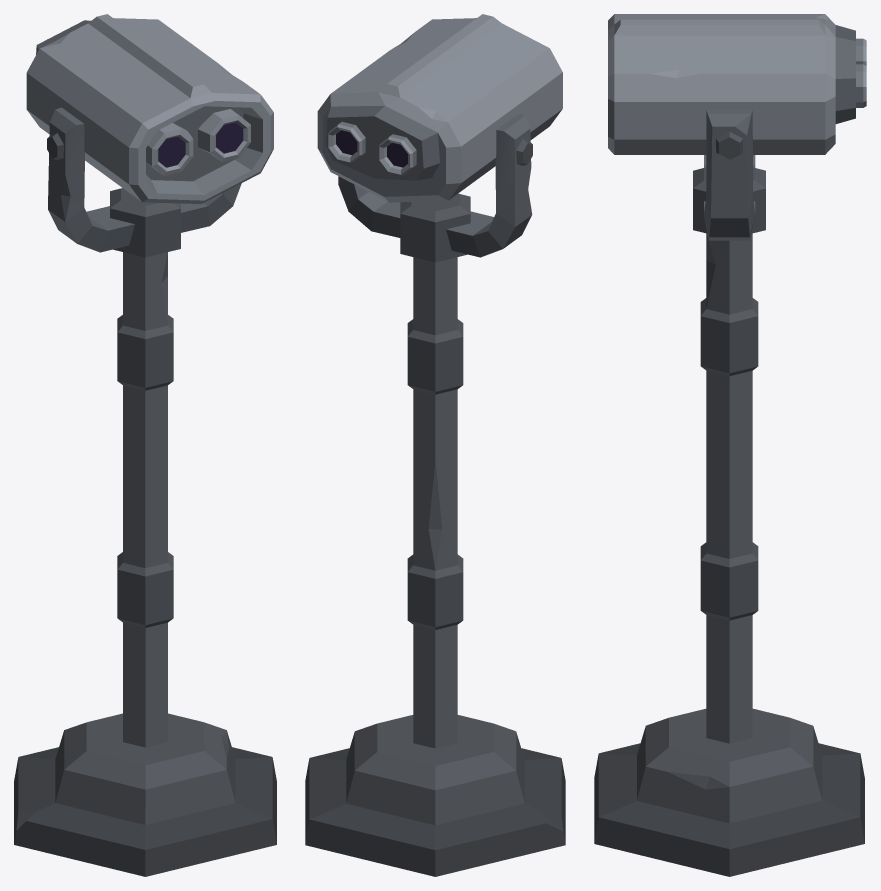
File: SM_Prop_Binoculars_01.glb
The picture shows the model from 3 angles, left to right: view 1: azimuth 30°, elevation 25°; view 2: azimuth 150°, elevation 25°; view 3: azimuth 270°, elevation 25°; orthographic projection. The views are drawn at different scales.
Visible parts, largest first — view 1: SM_Prop_Binoculars_01, SM_Prop_Binoculars_Head_01; view 2: SM_Prop_Binoculars_01, SM_Prop_Binoculars_Head_01; view 3: SM_Prop_Binoculars_01, SM_Prop_Binoculars_Head_01.
Part boxes in pixels (x1,y1,x2,y2): SM_Prop_Binoculars_01: [14, 107, 276, 876]; SM_Prop_Binoculars_Head_01: [26, 14, 273, 203]; SM_Prop_Binoculars_01: [305, 113, 565, 876]; SM_Prop_Binoculars_Head_01: [317, 14, 562, 202]; SM_Prop_Binoculars_01: [594, 110, 864, 876]; SM_Prop_Binoculars_Head_01: [608, 14, 866, 154].
Size of the model in its own units: 0.5611 by 1.56 by 0.4893.
1 material, 1 textured.
